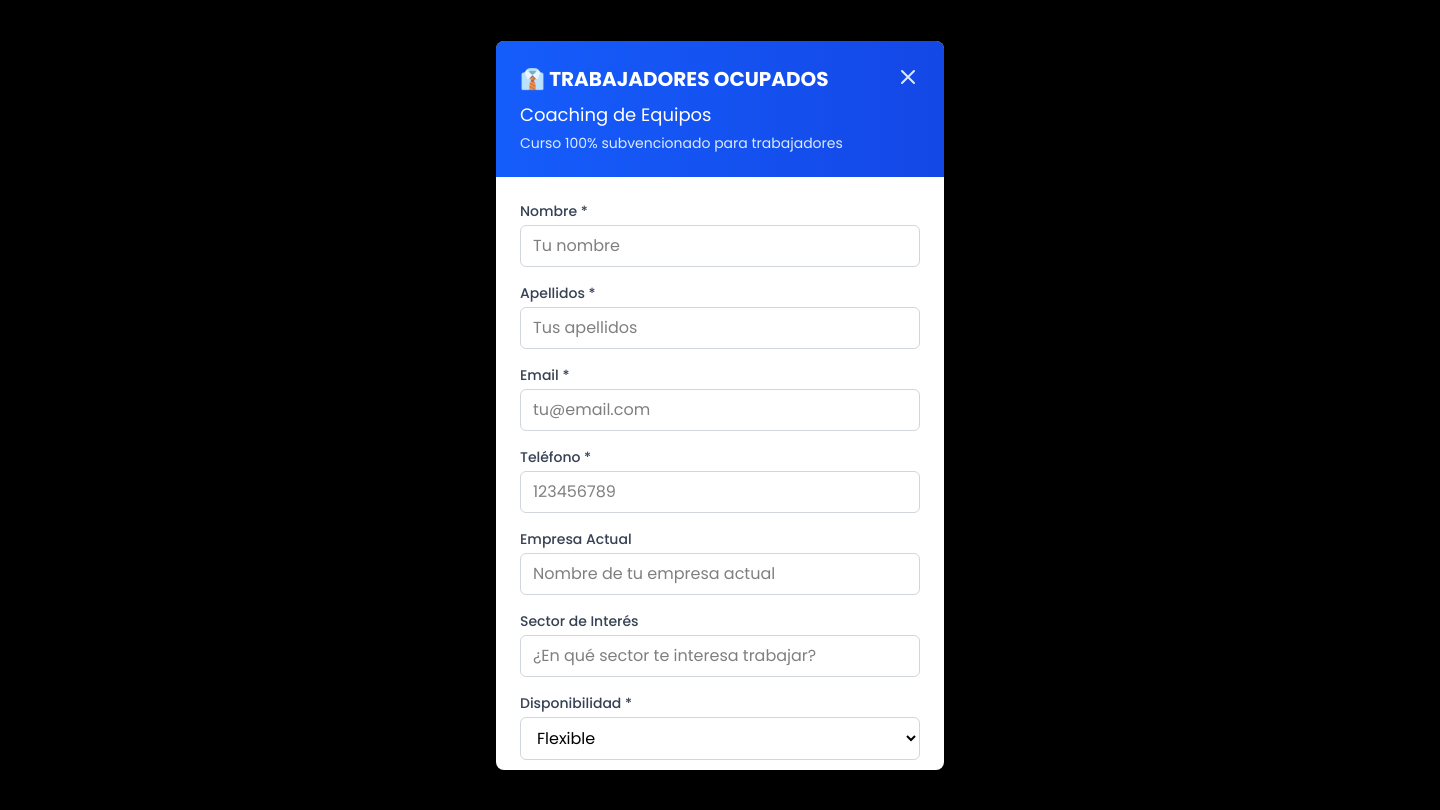
📝 FORMULARIO MODAL - INTEGRACIÓN NUEVOS CURSOS › debe validar correctamente formulario completo para curso ocupados
# Llenar formulario completo
Type "Juan" into the field with placeholder "Tu nombre" at [720, 246], box x1=520 y1=224 x2=920 y2=266
Type "Pérez" into the field with placeholder "Tus apellidos" at [720, 328], box x1=520 y1=306 x2=920 y2=348
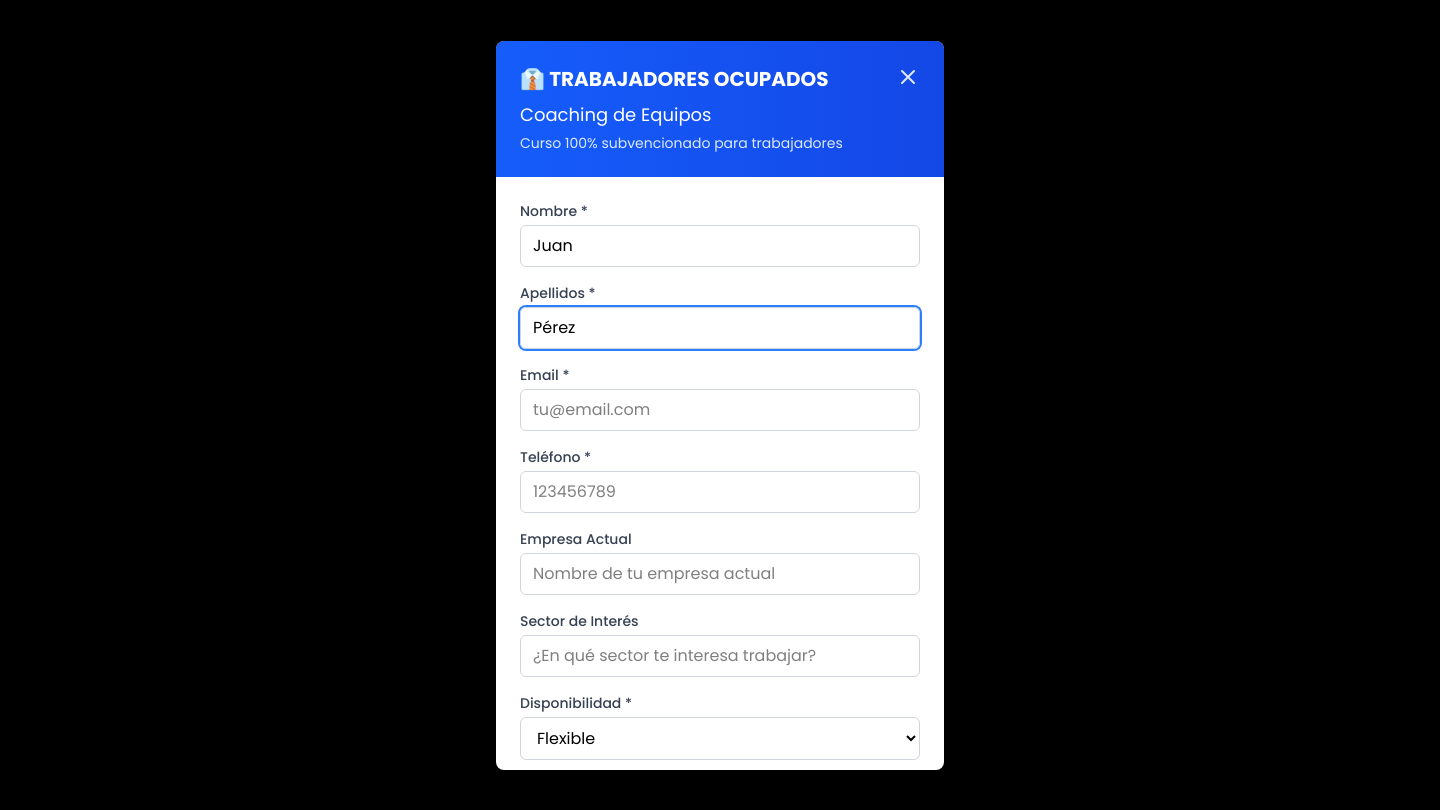
Type "juan@example.com" into the field with placeholder "tu@email.com" at [720, 410], box x1=520 y1=388 x2=920 y2=430
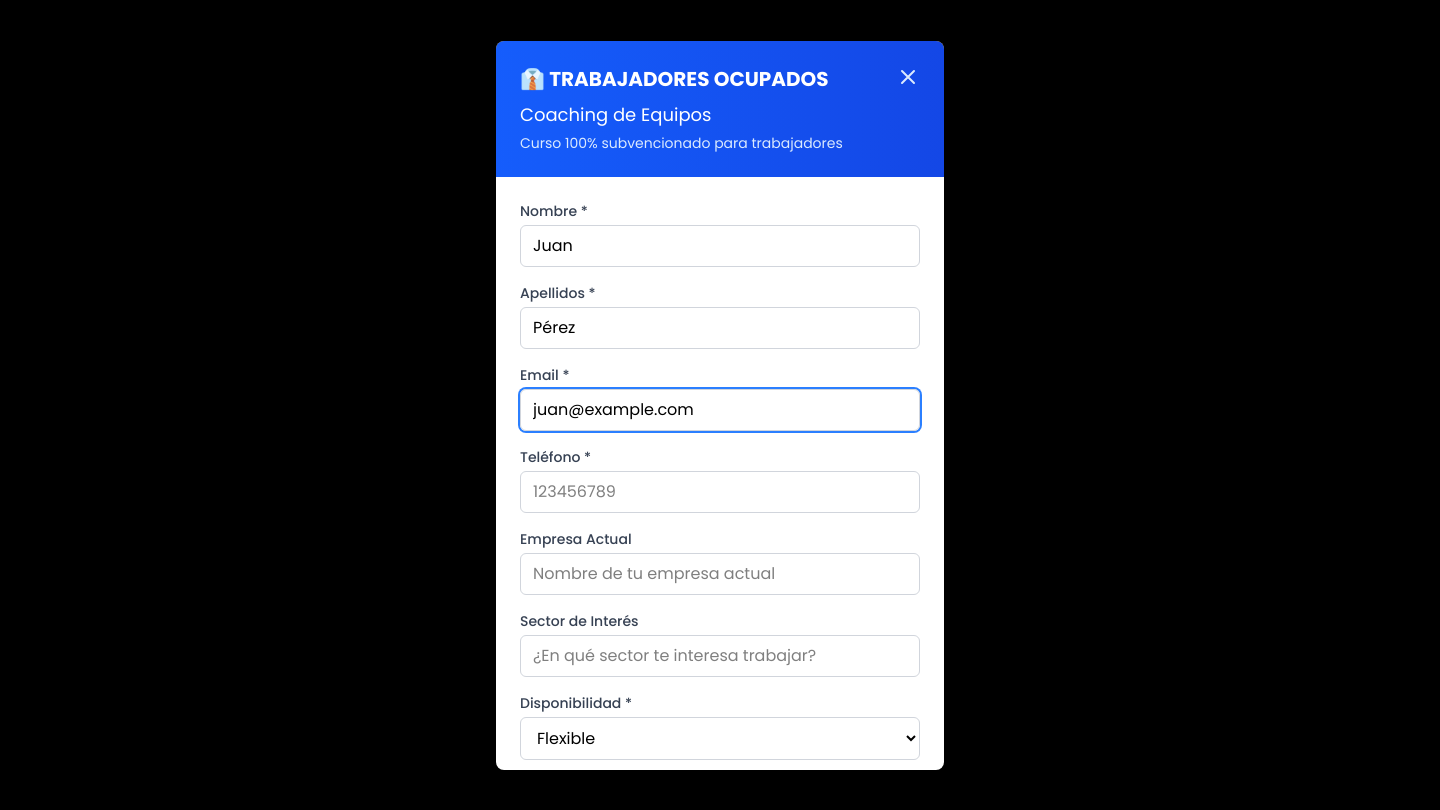
Type "666777888" into the field with placeholder "123456789" at [720, 492], box x1=520 y1=470 x2=920 y2=512
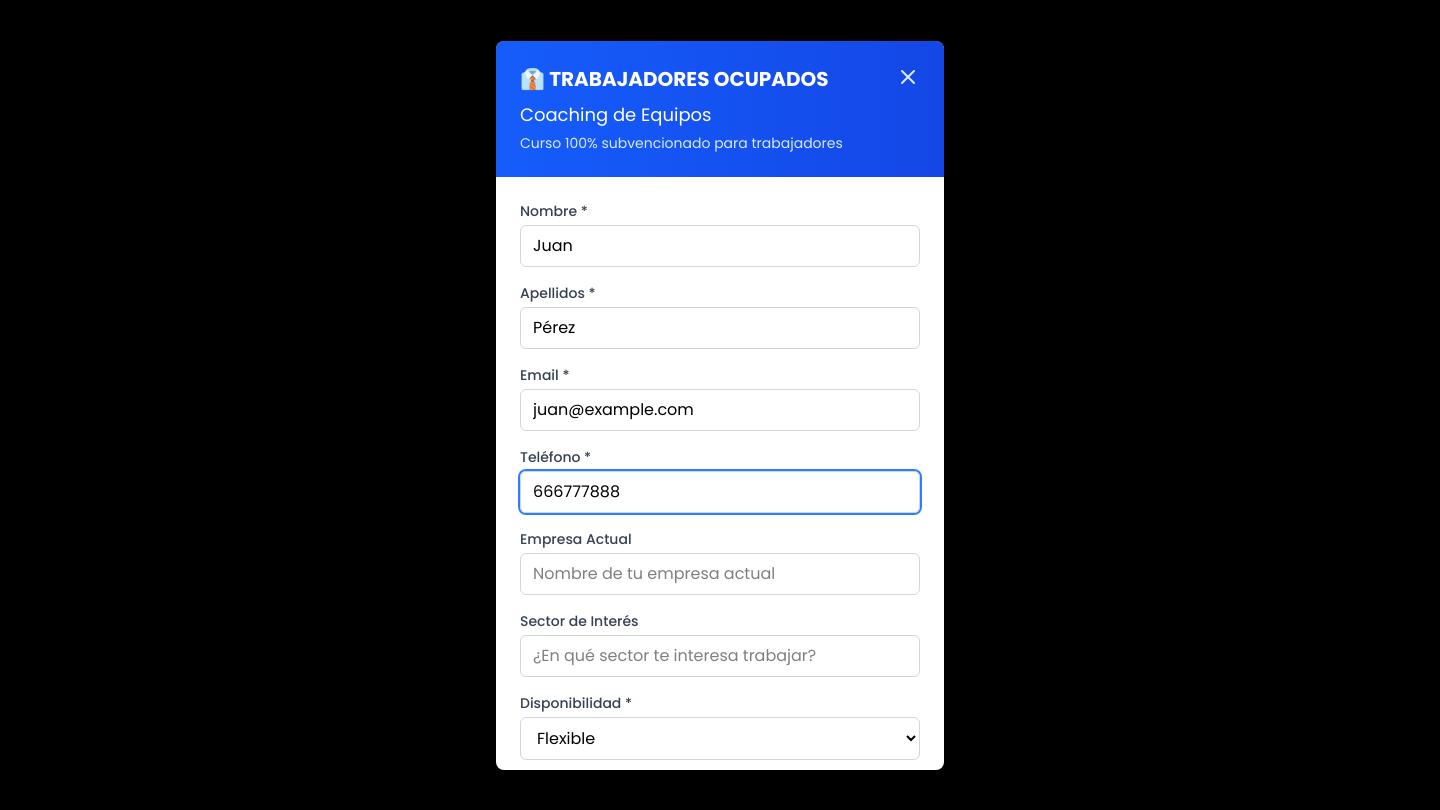
Type "Mi Empresa S.L." into the field with placeholder "Nombre de tu empresa actual" at [720, 574], box x1=520 y1=552 x2=920 y2=594
(page scrolled)
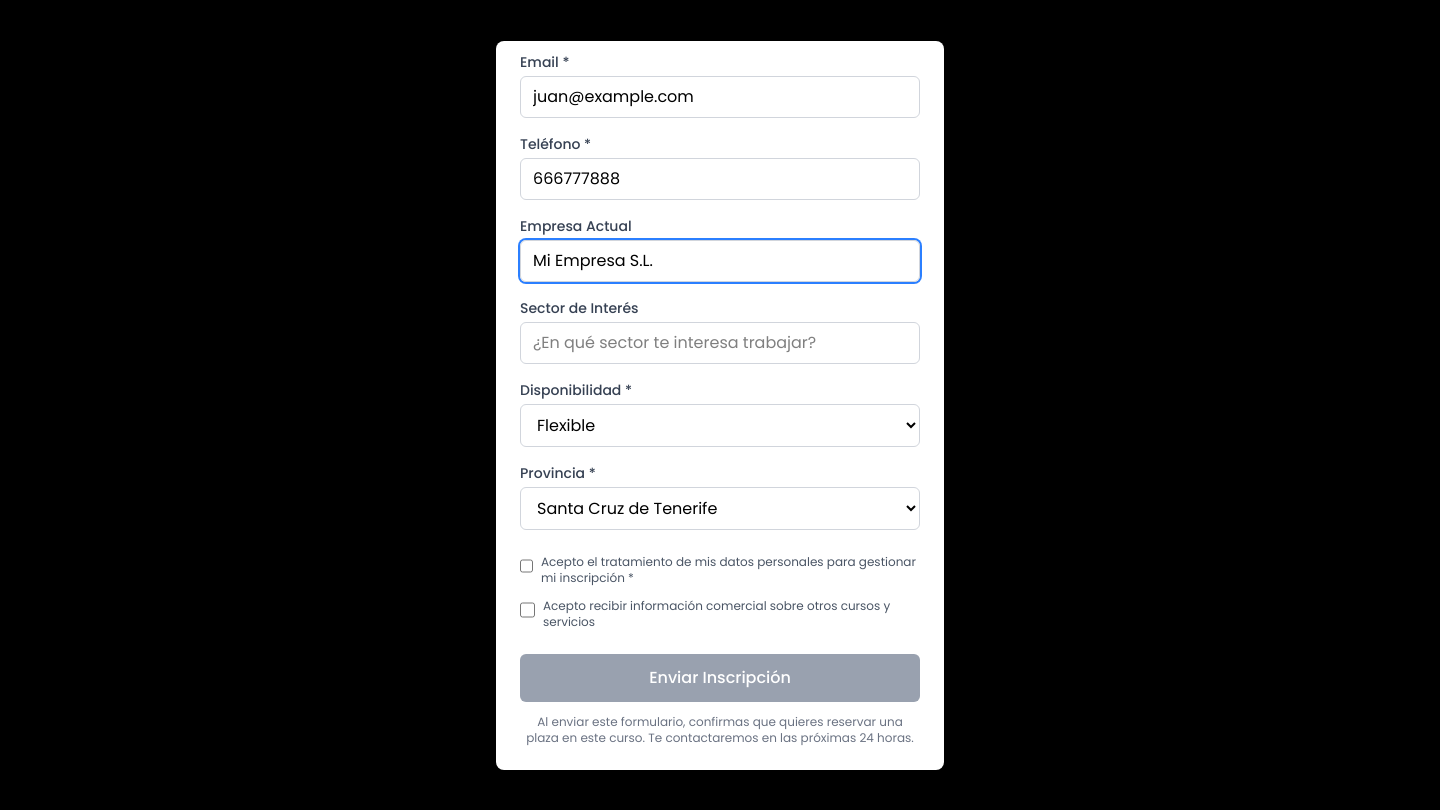
Click the 1st checkbox at [526, 566], box x1=520 y1=558 x2=533 y2=574
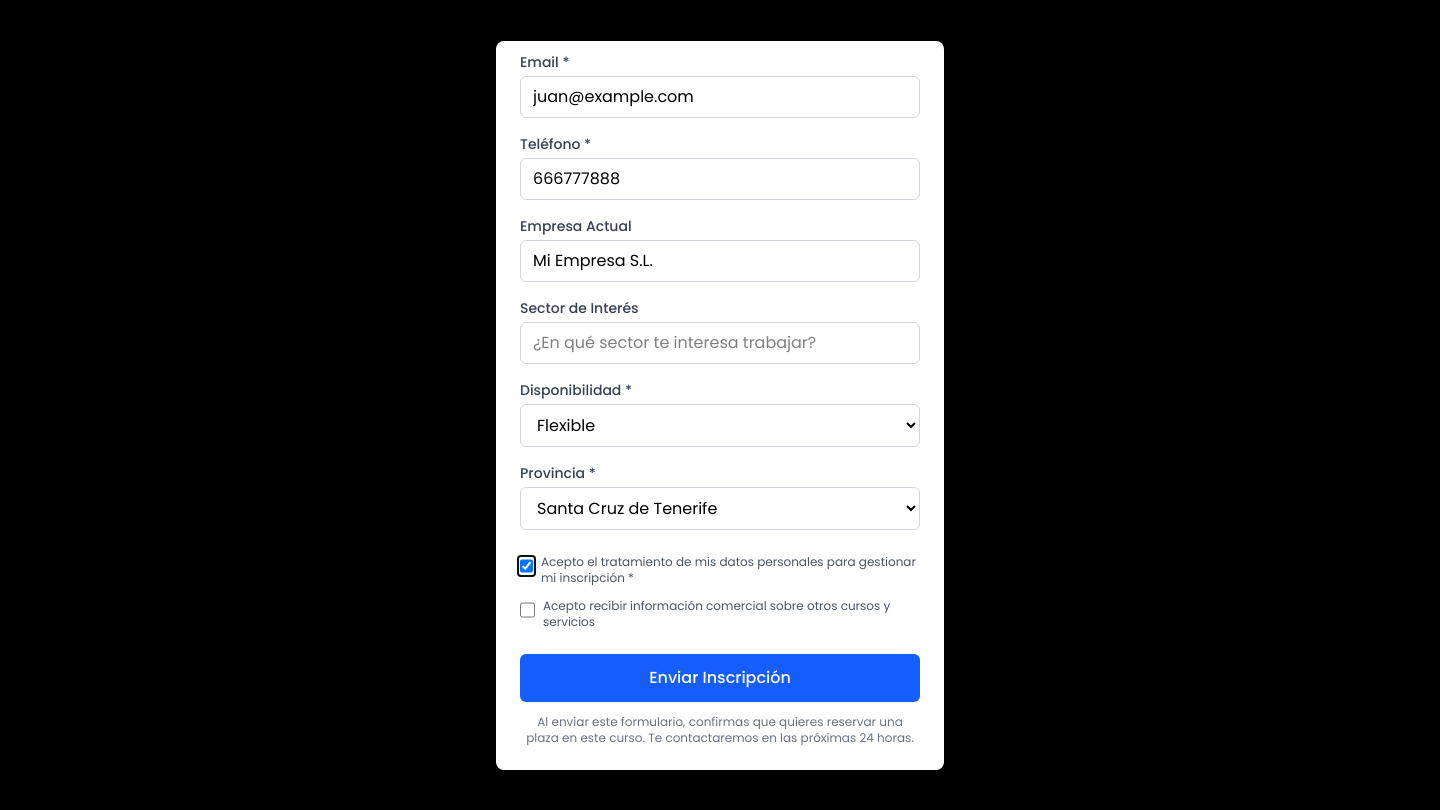
# Enviar formulario
Click the button "Enviar Inscripción" at [720, 678], box x1=520 y1=654 x2=920 y2=702
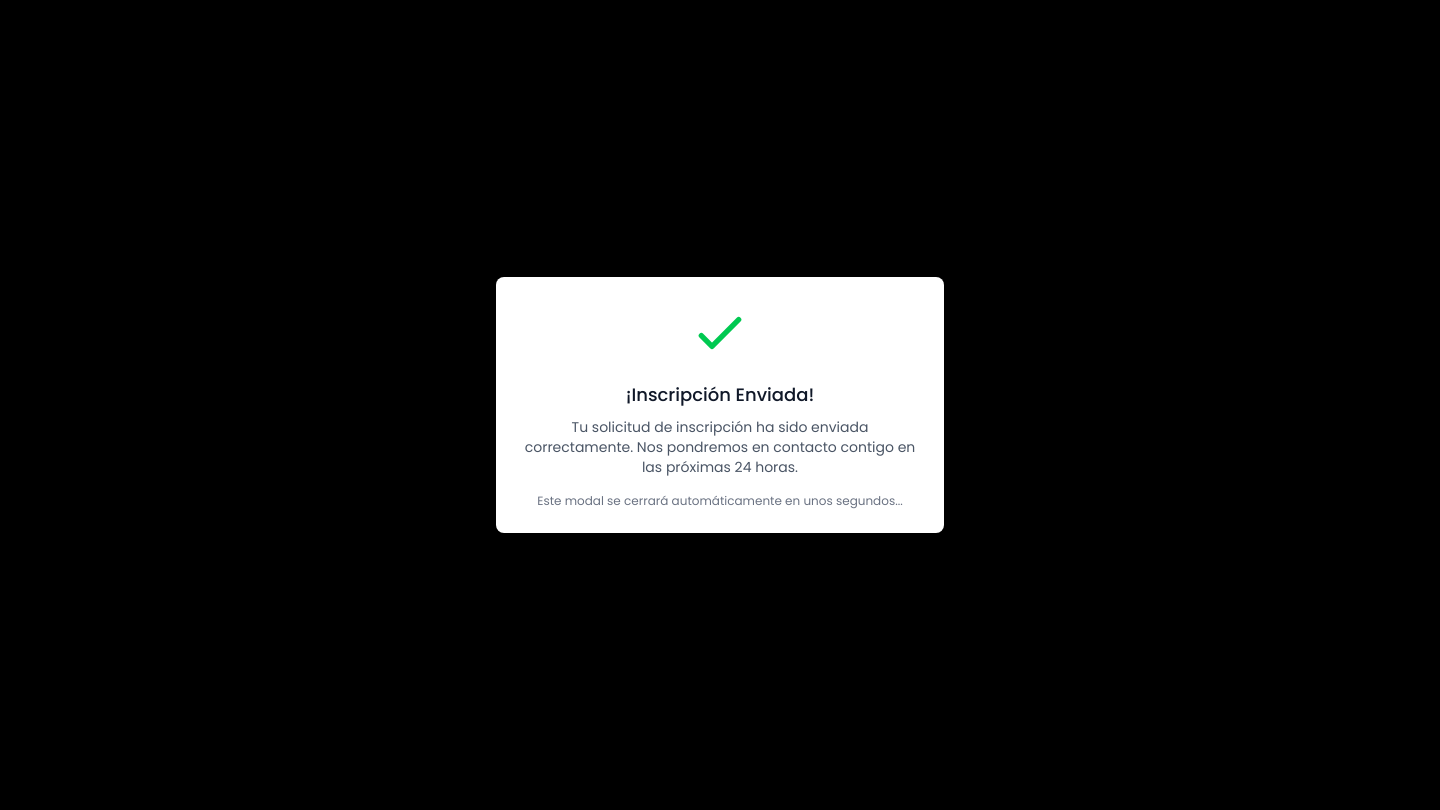
Expected: the heading "¡Inscripción Enviada!" is shown, x1=626 y1=382 x2=814 y2=407
